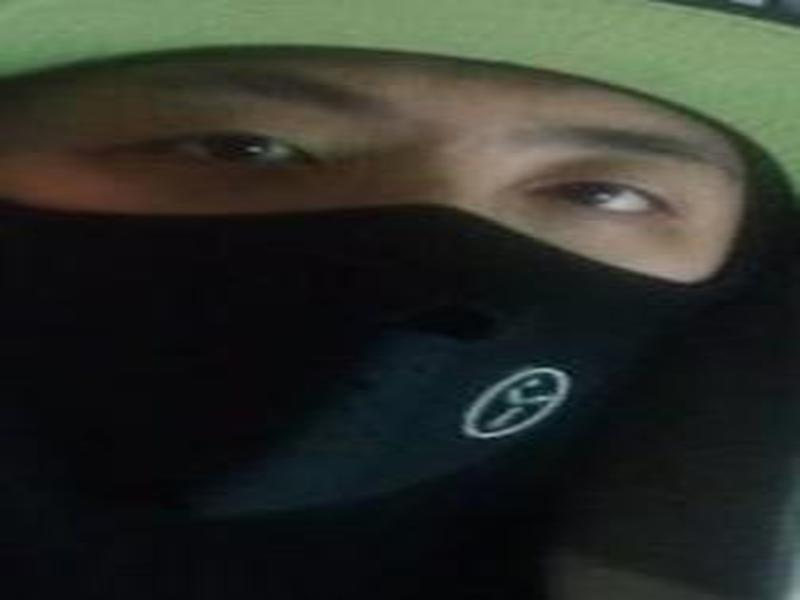with_mask: (1, 57, 796, 574)
